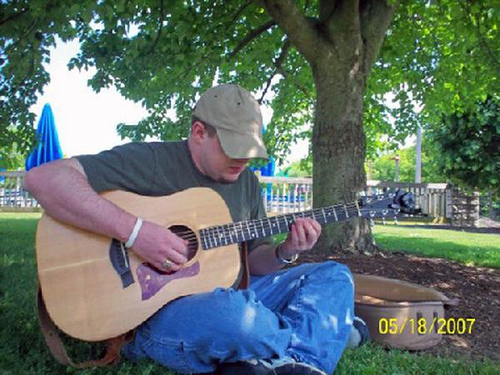guitar: (36, 184, 419, 345)
